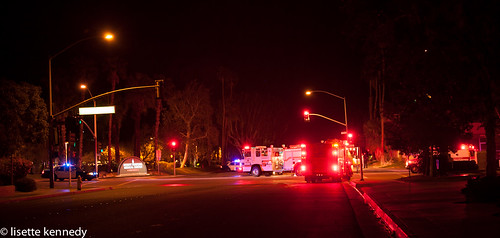ambulance: (294, 142, 347, 184)
firetruck: (242, 140, 297, 174)
light pole: (44, 26, 115, 190), (302, 82, 356, 181), (74, 74, 100, 175)
sky: (106, 1, 381, 82)
street: (1, 175, 403, 238)
tree: (162, 75, 216, 169), (1, 82, 54, 176)
